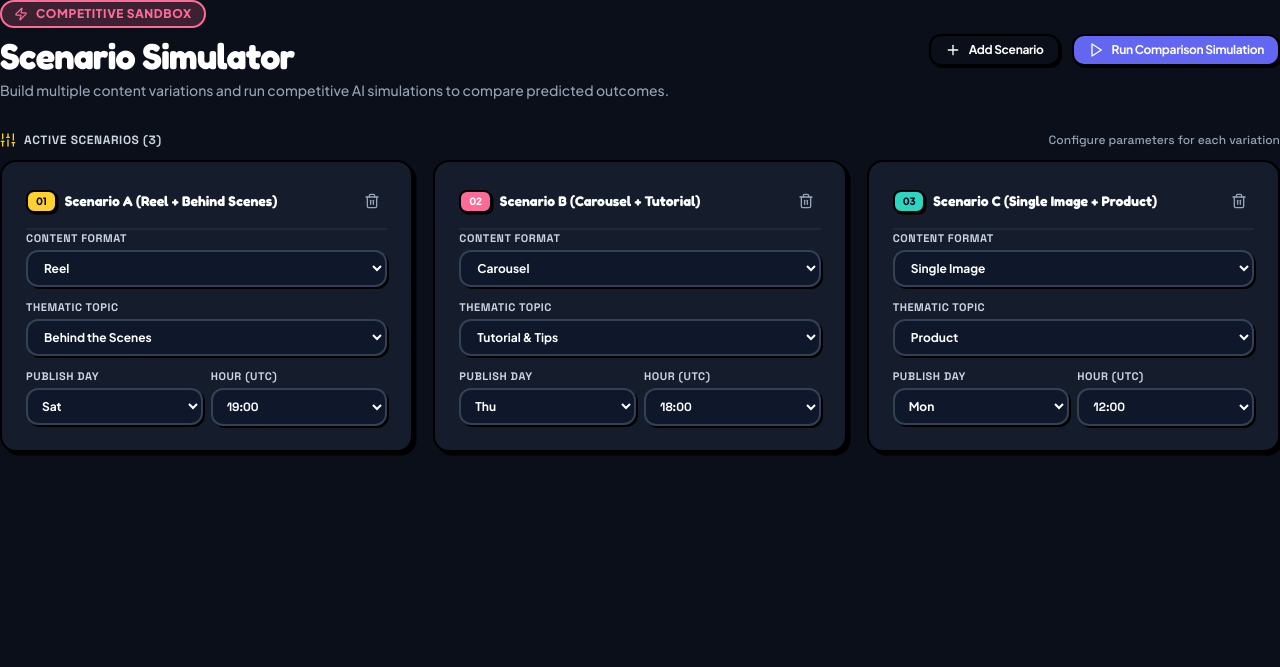
it: Simulator Page Component › runs simulation and renders comparison matrix
The image size is (1280, 667).
Click the button "Run Comparison Simulation". click: (1176, 50)
box: [1072,34,1279,66]
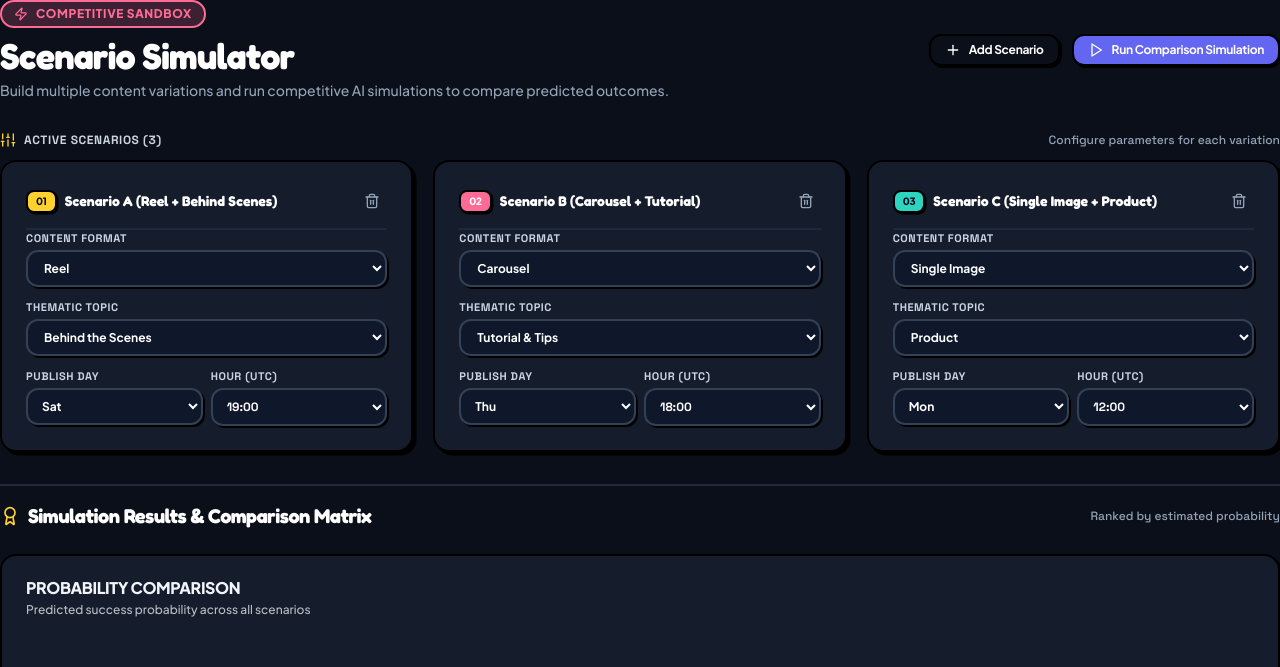
expect the heading "Simulation Results & Comparison Matrix" is shown: met, box [0,502,371,530]
